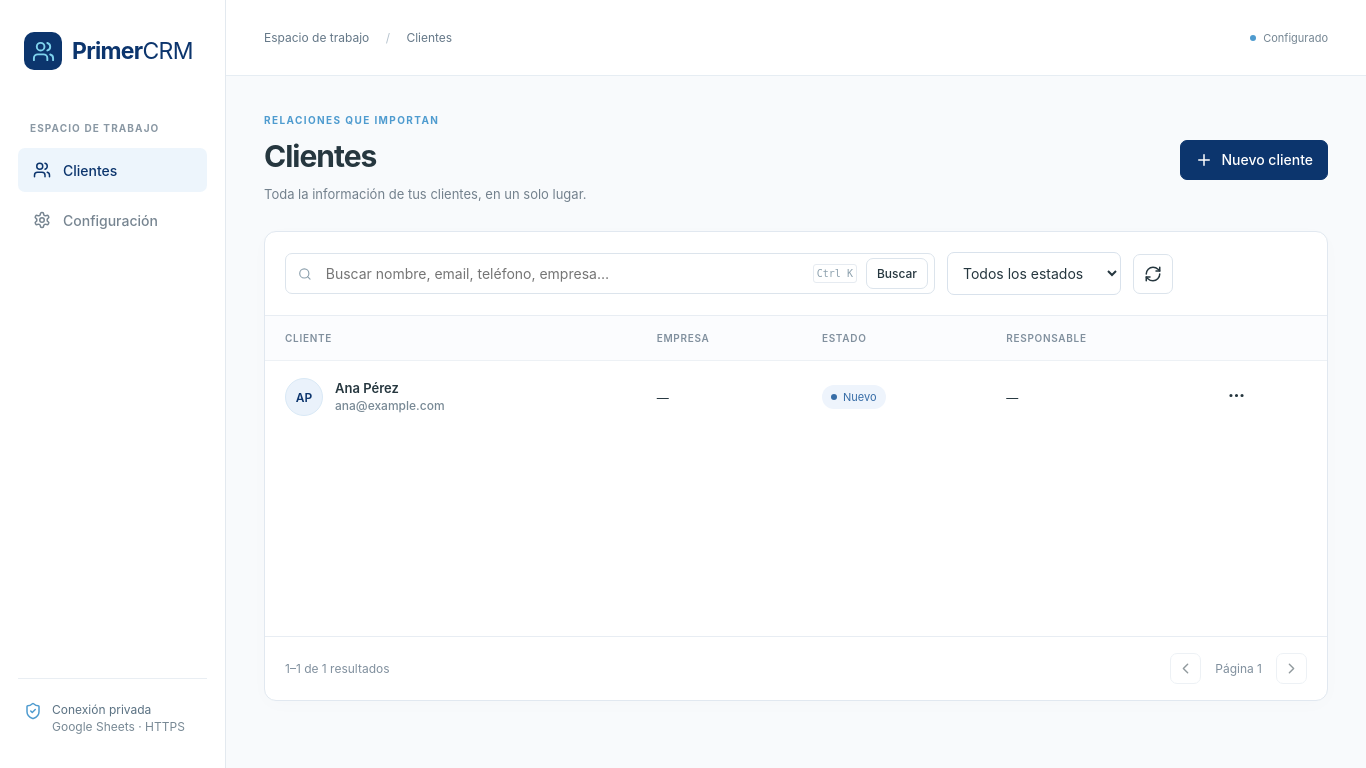
it: CRM workflows with a mocked bridge; never calls Google › identifies client in deletion confirmation and refreshes
Click the button "AP Ana Pérez ana@example.com" at (365, 397), box [285,378,444,416]
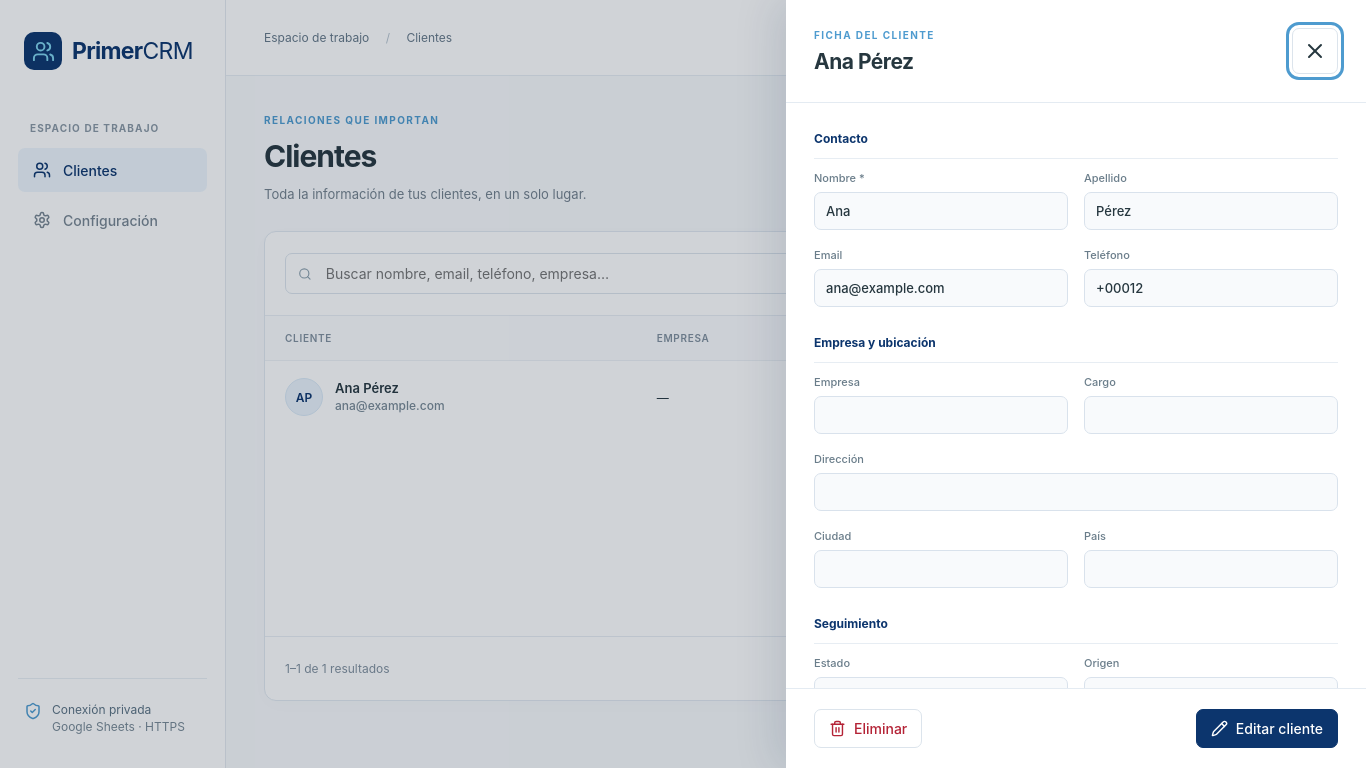
Click the button "Eliminar" at (868, 728), box [814,709,922,748]
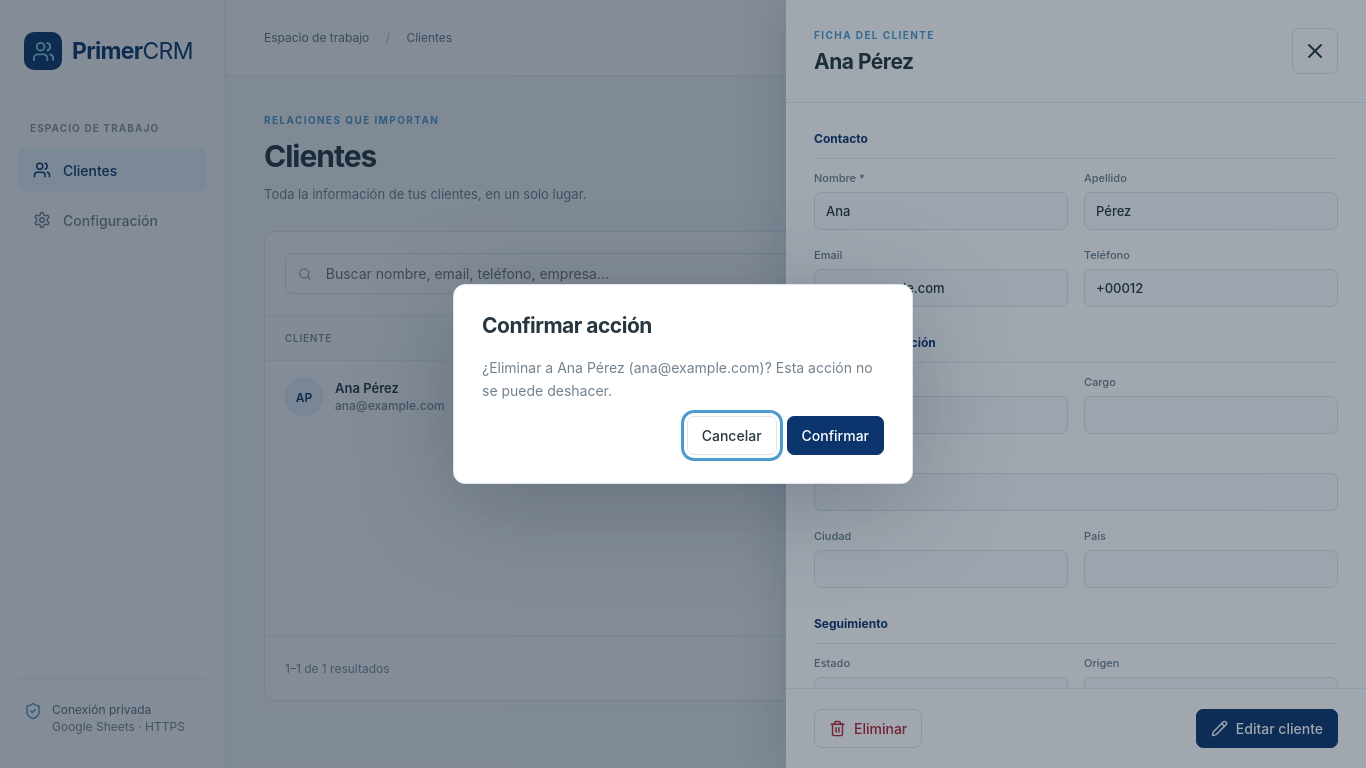
Now the text "¿Eliminar a Ana Pérez" is shown, box [482,359,873,399]
Click the button "Confirmar" at (835, 435), box [787,416,884,455]
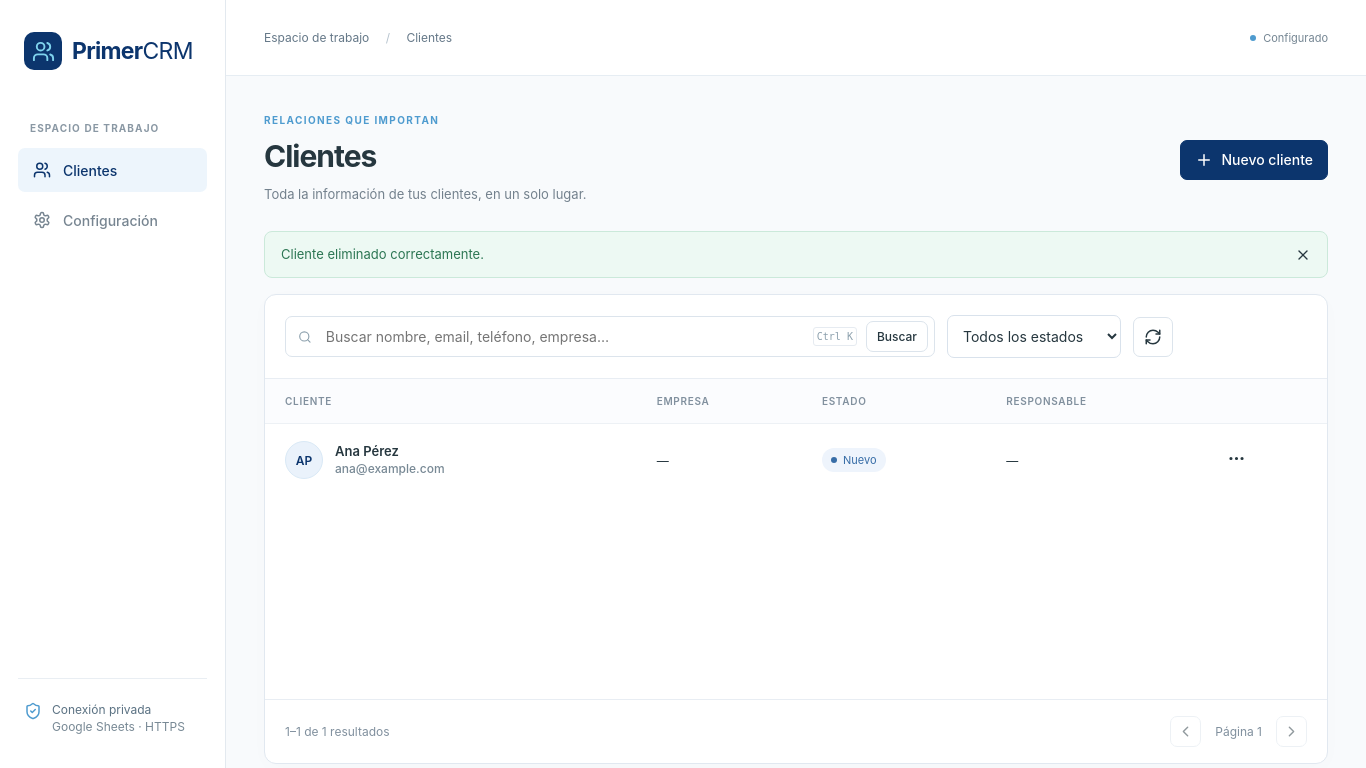
Now the text "Cliente eliminado correctamente." is shown, box [264,231,1328,278]
